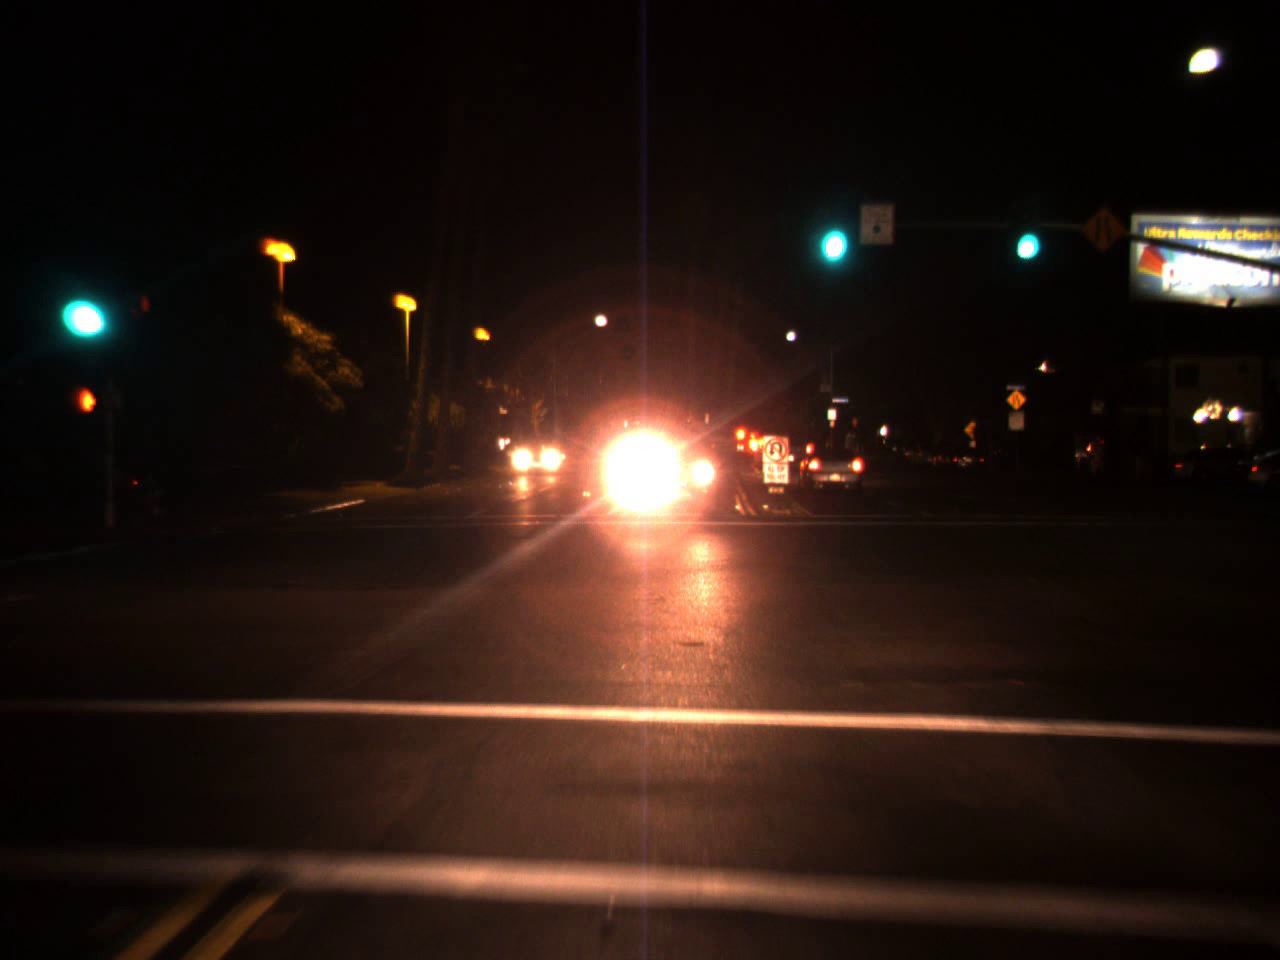go: (808, 188, 854, 275), (58, 268, 108, 343), (1008, 200, 1044, 269)
